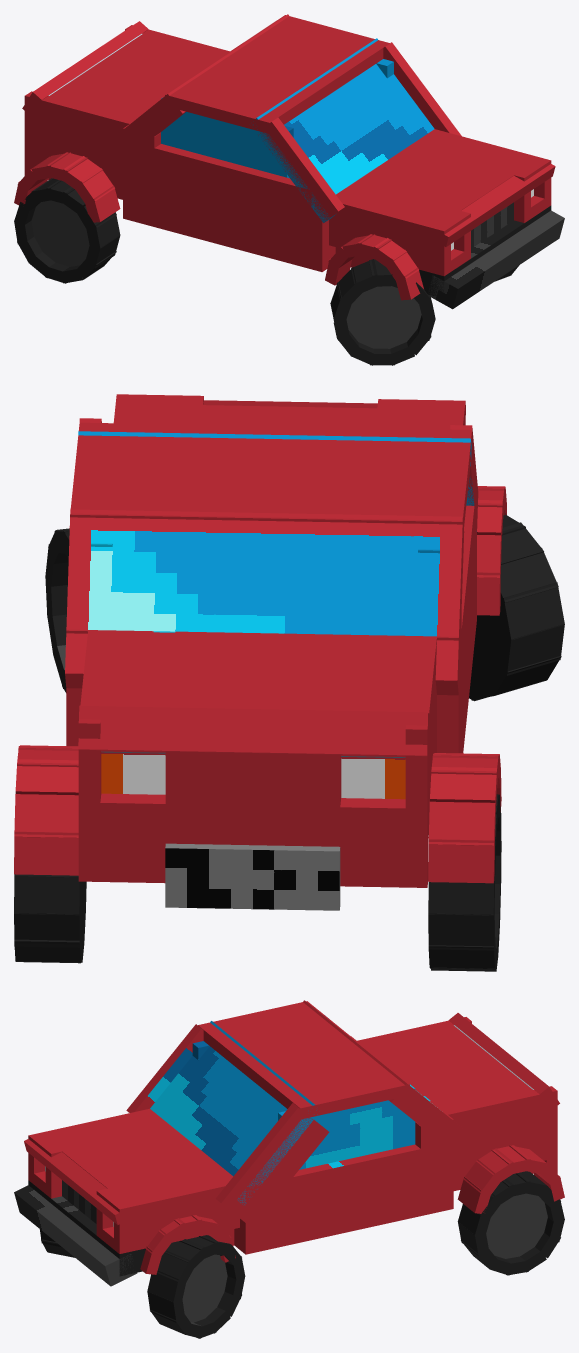
Rendered from blockbench-car.glb.
3 views of the same model, one above another, from view 1: azimuth 30°, elevation 25°; view 2: azimuth 150°, elevation 25°; view 3: azimuth 270°, elevation 25° (orthographic). The views are drawn at different scales.
Parts seen in each view (by area): view 1: cube_127, cube_118, cube_132, cube_128, cube_111, cube_100, cube_110, cube_115, cube_130, cube_117, cube_134, cube_112 (+34 smaller); view 2: cube_135, cube_127, cube_118, cube_125, cube_124, cube_126, cube_122, cube_121, cube_111, cube_120, cube_117, cube_165 (+34 smaller); view 3: cube_118, cube_127, cube_132, cube_129, cube_133, cube_111, cube_131, cube_103, cube_115, cube_110, cube_117, cube_135 (+30 smaller).
Part boxes in pixels (x1,y1,x2,y2): cube_127: (165, 15, 389, 133); cube_118: (35, 29, 229, 189); cube_132: (253, 38, 434, 222); cube_128: (154, 144, 311, 246); cube_111: (355, 147, 513, 210); cube_100: (329, 196, 450, 276); cube_110: (428, 210, 564, 309); cube_115: (154, 204, 335, 271); cube_130: (161, 98, 293, 178); cube_117: (123, 123, 160, 226); cube_134: (258, 117, 344, 223); cube_112: (431, 164, 555, 246); cube_135: (65, 509, 464, 695); cube_127: (70, 422, 471, 526); cube_118: (80, 631, 436, 837); cube_125: (100, 793, 405, 887); cube_124: (78, 705, 428, 757); cube_126: (165, 843, 340, 910); cube_122: (165, 751, 341, 807); cube_121: (405, 725, 428, 887); cube_111: (201, 405, 377, 427); cube_120: (78, 719, 101, 881); cube_117: (66, 614, 461, 753); cube_165: (428, 837, 494, 883); cube_118: (357, 1020, 546, 1180); cube_127: (198, 1001, 409, 1119); cube_132: (150, 1021, 317, 1204); cube_129: (268, 1144, 420, 1226); cube_133: (215, 1103, 329, 1227); cube_111: (62, 1127, 217, 1188); cube_131: (278, 1084, 415, 1169); cube_103: (114, 1179, 239, 1253); cube_115: (234, 1194, 420, 1254); cube_110: (14, 1185, 137, 1286); cube_117: (351, 1036, 453, 1215); cube_135: (303, 1000, 468, 1151).
Bounding box in the file's own units: 2.26 × 1.14 × 2.79.
1 material, 1 textured.
